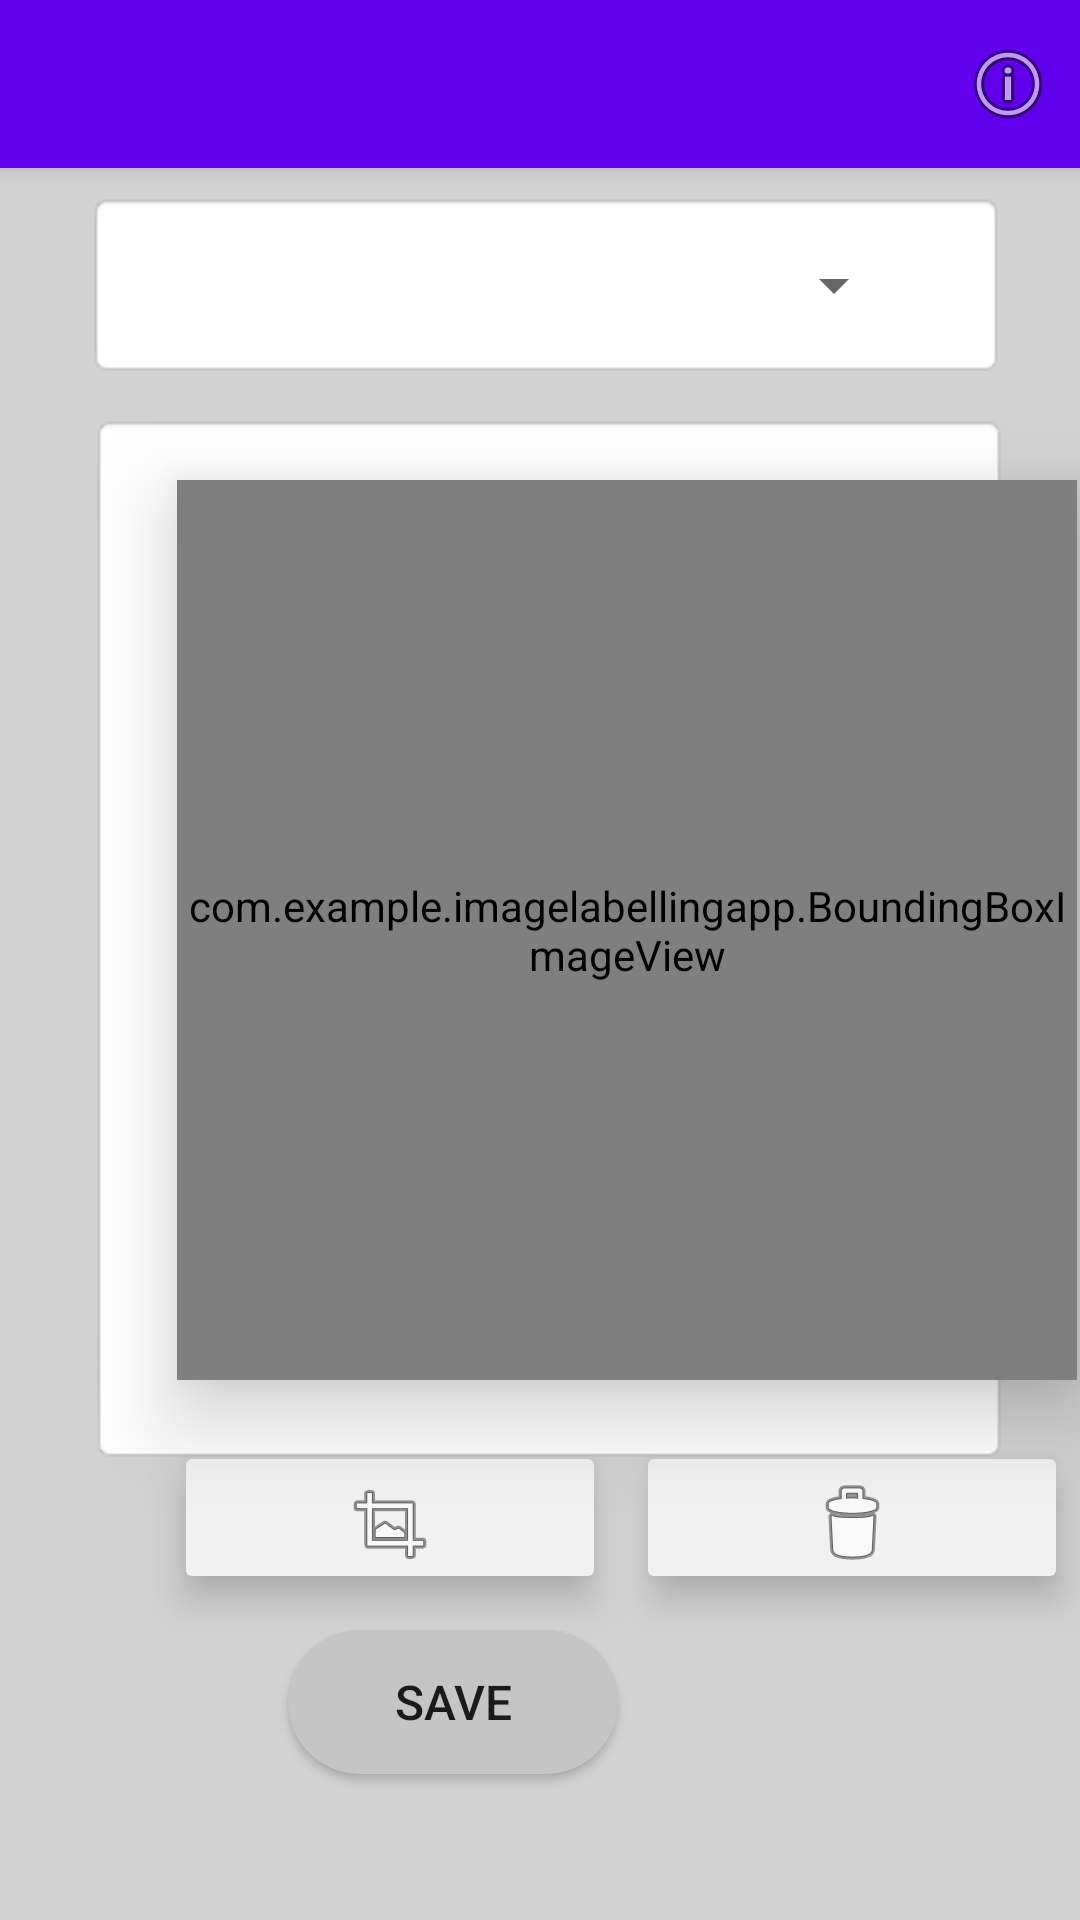

Icon bounding boxes for this 1080×1920 phone screenshot, format {"left": x1, "top": y1, "right": x2, "bottom": y2}:
Help: {"left": 973, "top": 49, "right": 1043, "bottom": 119}
